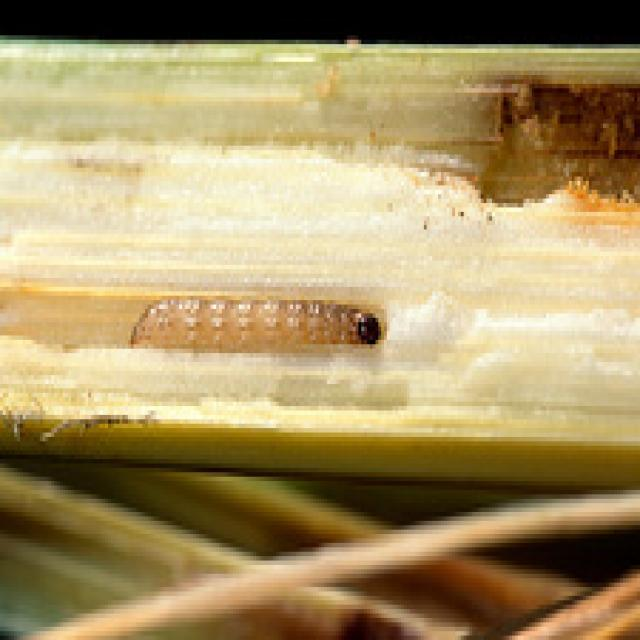cornborer-Larva-: (108, 275, 423, 409)
